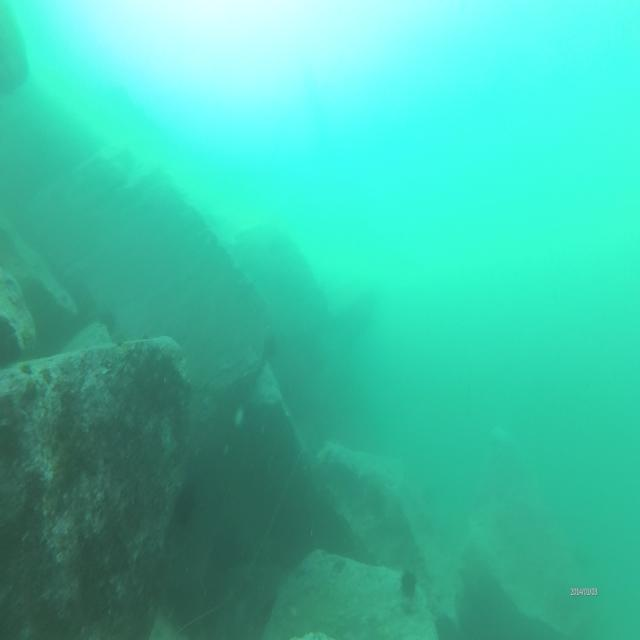echinus: (399, 564, 418, 604)
